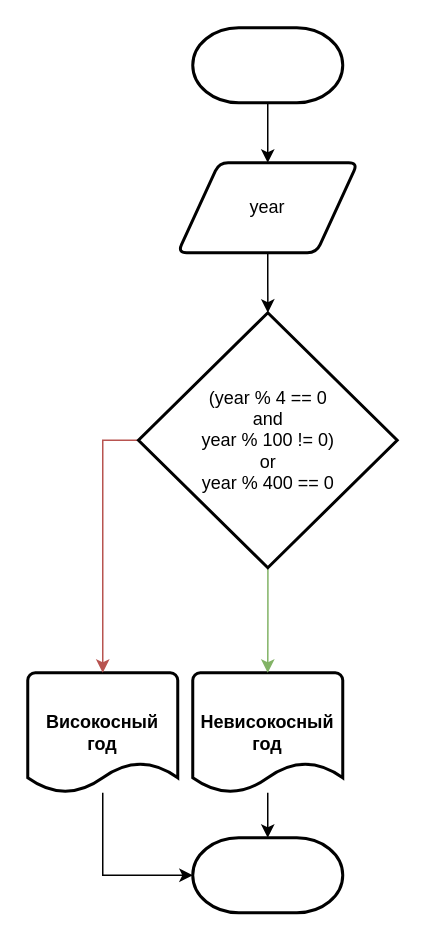
This 425x939 diagram has some shape labels left out. The shapes that lost their labels are listed below. From the top down, each one's centre as x and y in pixels, then its label:
[267,65]: Начало
[267,875]: Конец
